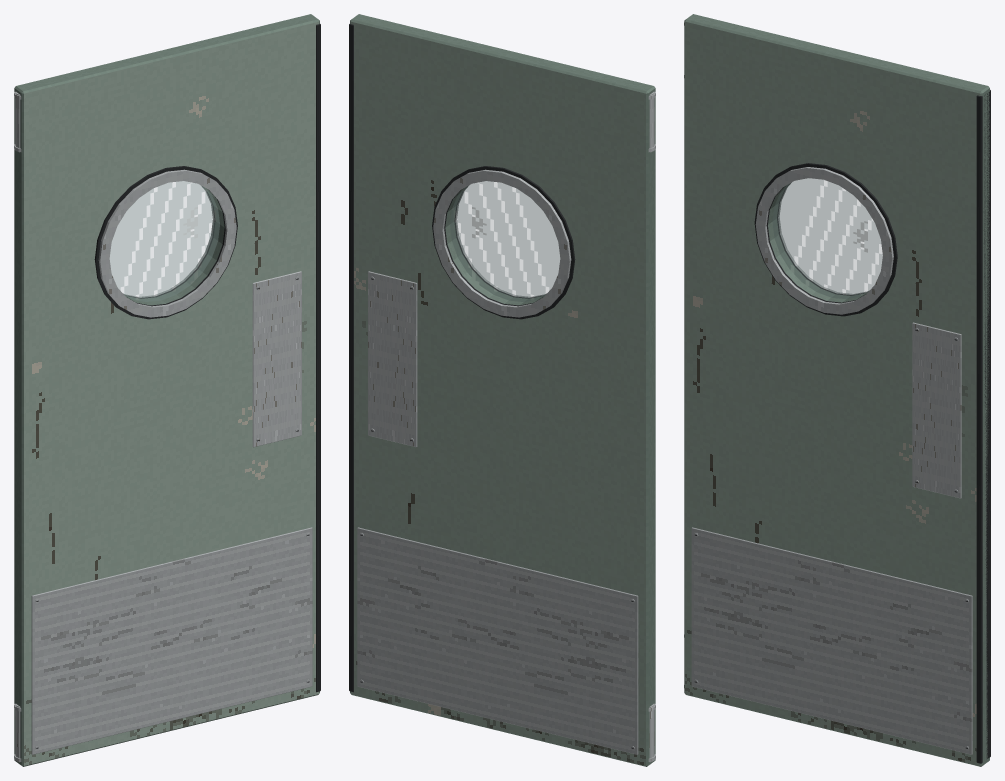
Rendered from door_swing_3.glb.
3 views of the same model, side by side, from view 1: azimuth 30°, elevation 25°; view 2: azimuth 150°, elevation 25°; view 3: azimuth 330°, elevation 25° (orthographic).
Visible parts, largest first — view 1: leaf_body, kick_plate_front, door_glass, push_plate_front, porthole_rim_front, meeting_edge_seal, porthole_gasket_front, double_action_pivots; view 2: leaf_body, kick_plate_back, door_glass, push_plate_back, porthole_rim_back, meeting_edge_seal, porthole_gasket_back, double_action_pivots; view 3: leaf_body, kick_plate_front, door_glass, push_plate_front, meeting_edge_seal, porthole_rim_front, porthole_gasket_front.
Part boxes in pixels (<box>): leaf_body: <box>14,14,319,766</box>; kick_plate_front: <box>31,527,312,754</box>; door_glass: <box>110,181,219,301</box>; push_plate_front: <box>252,271,301,447</box>; porthole_rim_front: <box>98,169,236,317</box>; meeting_edge_seal: <box>316,23,320,692</box>; porthole_gasket_front: <box>94,166,237,319</box>; double_action_pivots: <box>14,91,21,762</box>; leaf_body: <box>350,14,655,766</box>; kick_plate_back: <box>357,527,638,754</box>; door_glass: <box>450,181,559,301</box>; push_plate_back: <box>368,271,417,447</box>; porthole_rim_back: <box>433,169,571,317</box>; meeting_edge_seal: <box>349,23,353,692</box>; porthole_gasket_back: <box>432,166,575,319</box>; double_action_pivots: <box>648,91,655,762</box>; leaf_body: <box>684,14,989,766</box>; kick_plate_front: <box>691,527,972,754</box>; door_glass: <box>772,178,882,298</box>; push_plate_front: <box>912,322,961,498</box>; meeting_edge_seal: <box>976,90,990,763</box>; porthole_rim_front: <box>755,167,893,314</box>; porthole_gasket_front: <box>754,163,897,316</box>.
Bounding box in the file's own units: 0.9587 × 2.06 × 0.08.
Materials: 2 (2 with a texture image).
